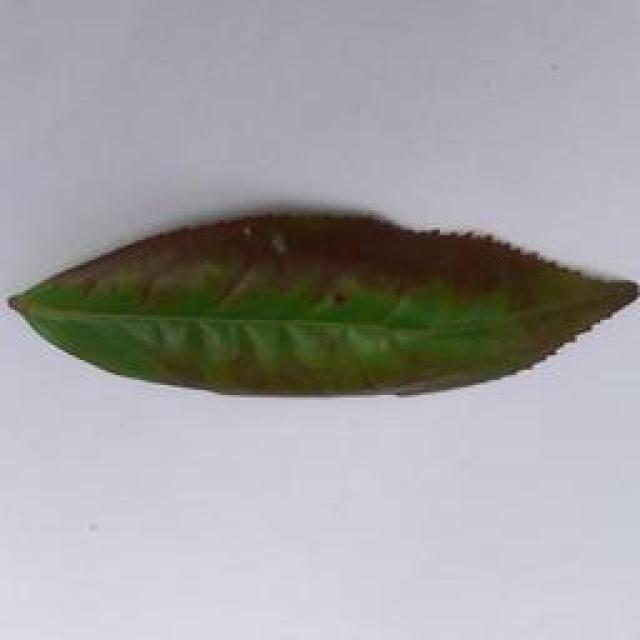Red Leaf Spot: (1, 194, 640, 413)
